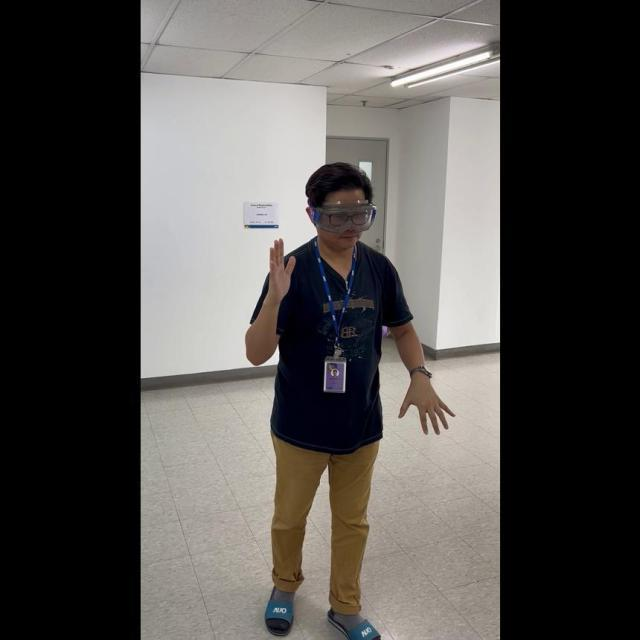bare_hand: (395, 371, 454, 436), (265, 234, 293, 296)
